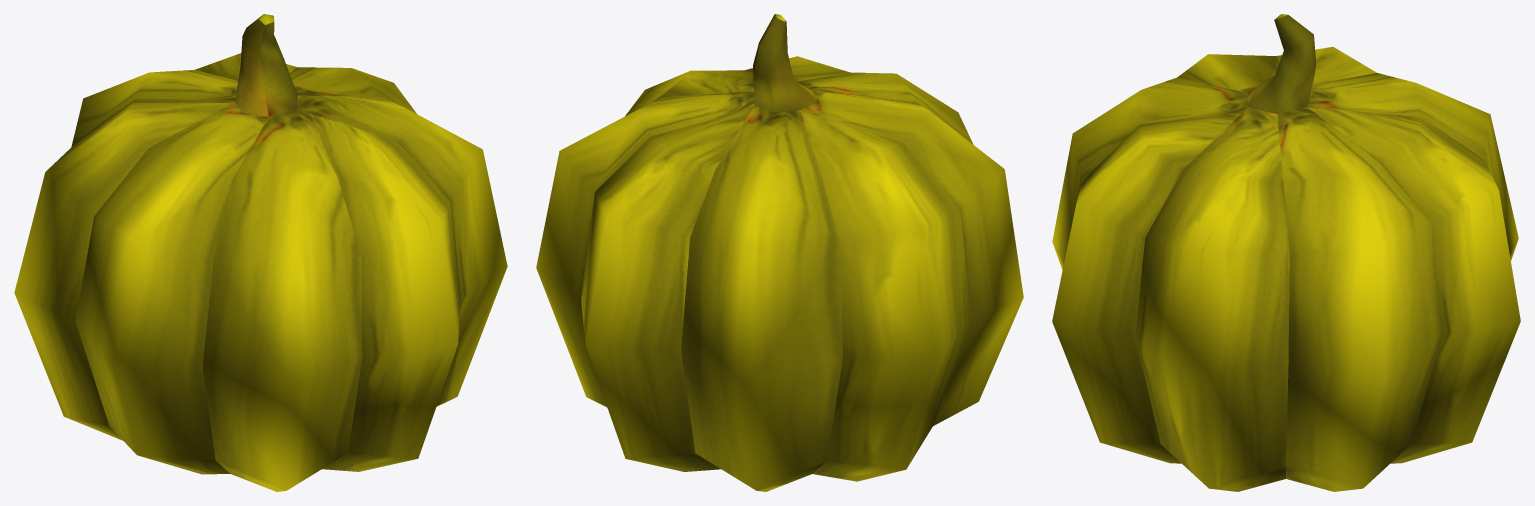
The model's file is ruraltown_pumpking_small_00.fbx.
3 views of the same model, side by side, from view 1: azimuth 30°, elevation 25°; view 2: azimuth 150°, elevation 25°; view 3: azimuth 270°, elevation 25° (orthographic).
Parts seen in each view (by area): view 1: ruraltown_pumpking_small_00; view 2: ruraltown_pumpking_small_00; view 3: ruraltown_pumpking_small_00.
Part boxes in pixels (<box>): ruraltown_pumpking_small_00: <box>14,14,507,491</box>; ruraltown_pumpking_small_00: <box>536,14,1023,491</box>; ruraltown_pumpking_small_00: <box>1052,14,1520,491</box>.
Bounding box in the file's own units: 0.352 × 0.3578 × 0.3527.
